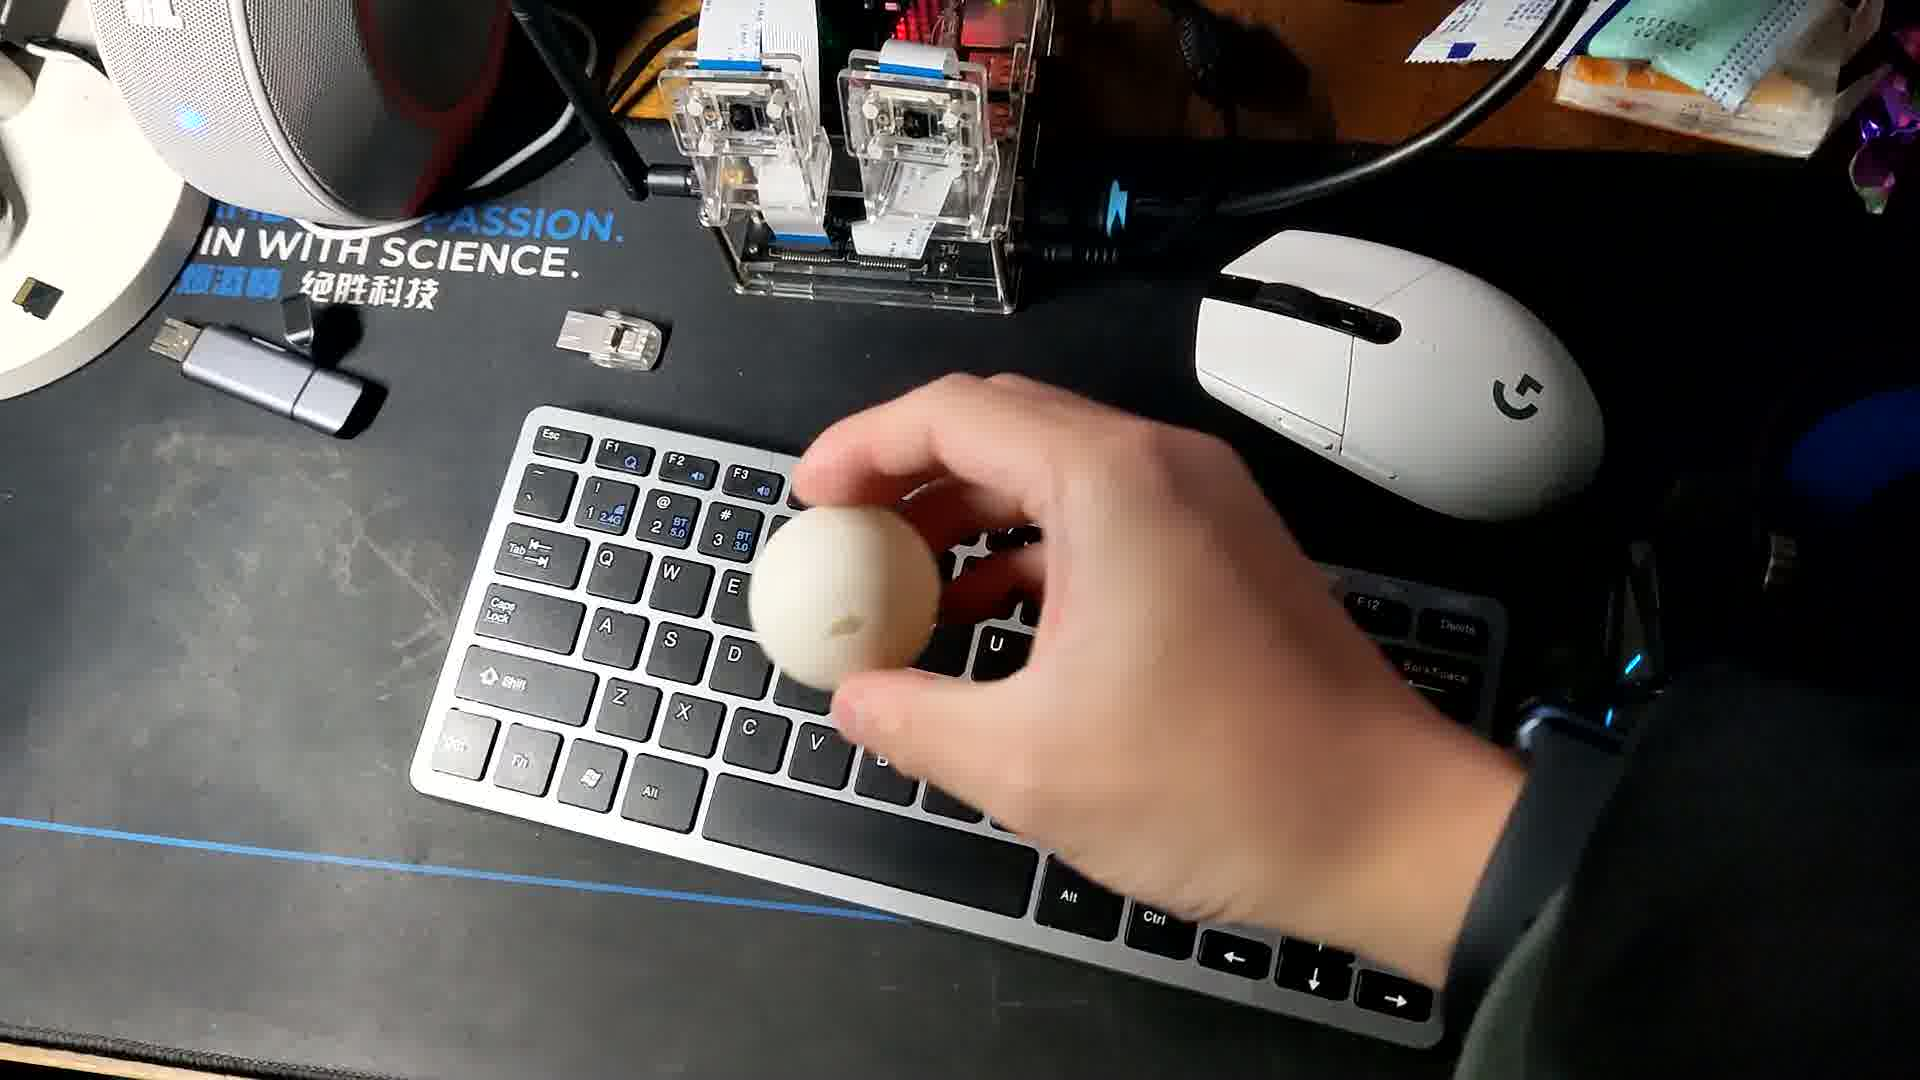Ball: (756, 505, 945, 694)
